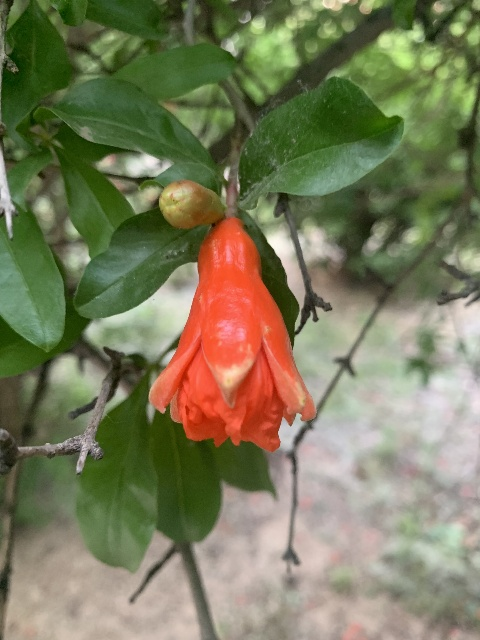bud: (159, 179, 223, 229)
flower: (149, 216, 312, 452)
